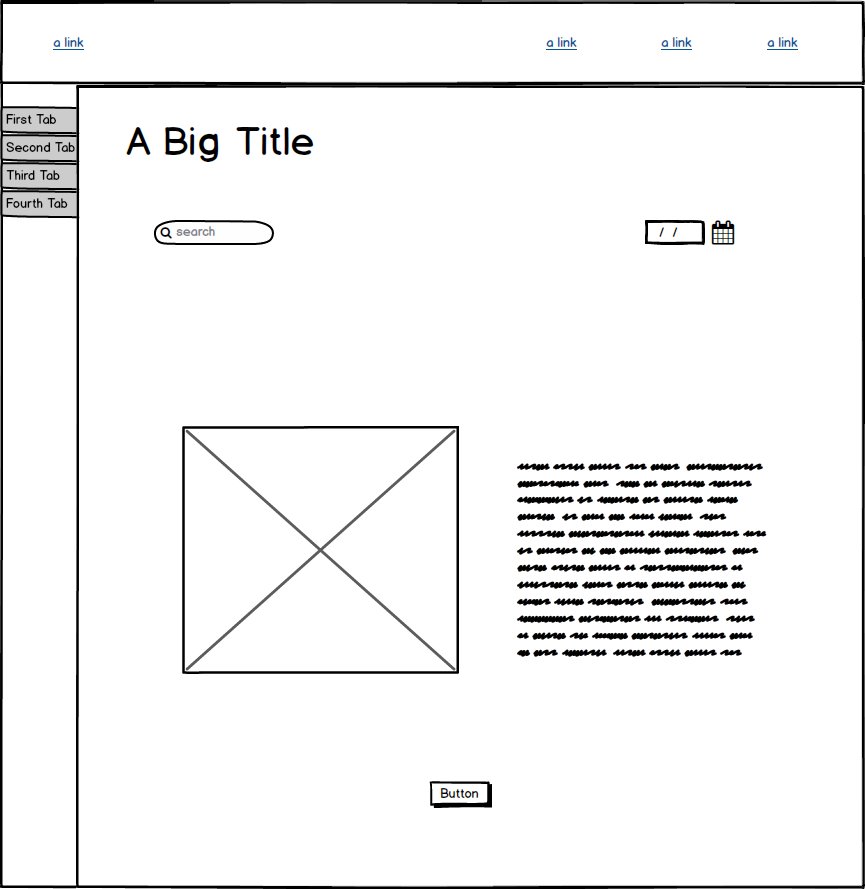button: (426, 777, 499, 813)
date_picker: (637, 209, 745, 258)
h1: (122, 119, 318, 171), (763, 28, 811, 59), (660, 25, 698, 59), (540, 28, 586, 56), (51, 31, 91, 58)
image: (175, 416, 467, 681)
p: (513, 455, 771, 666)
search: (147, 213, 284, 252)
sidebar: (5, 96, 86, 228)
